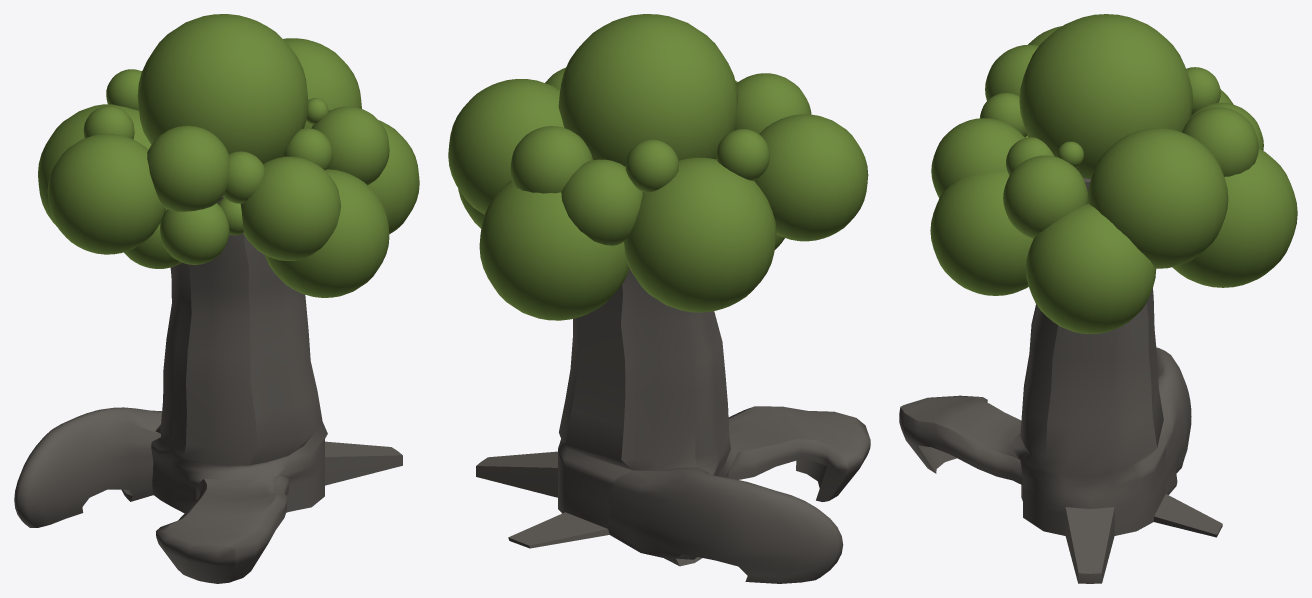
Rendered from Background_Tree.fbx.
3 renders of one model, left to right at view 1: azimuth 30°, elevation 25°; view 2: azimuth 150°, elevation 25°; view 3: azimuth 270°, elevation 25°, orthographic. The views are drawn at different scales.
Visible parts, largest first — view 1: Tree_2_Main, pSphere8, pSphere1, pSphere7, pSphere17, pSphere9, pSphere5, pSphere3, pSphere4, pSphere18, pSphere2, pSphere10 (+5 smaller); view 2: Tree_2_Main, pSphere8, pSphere2, pSphere16, pSphere1, pSphere4, pSphere6, pSphere13, pSphere9, pSphere15, pSphere14; view 3: Tree_2_Main, pSphere8, pSphere4, pSphere18, pSphere17, pSphere16, pSphere5, pSphere7, pSphere13, pSphere9, pSphere10, pSphere15 (+2 smaller).
Part boxes in pixels (x1,y1,x2,y2): Tree_2_Main: (14, 196, 402, 583); pSphere8: (137, 14, 308, 163); pSphere1: (47, 134, 166, 254); pSphere7: (240, 156, 341, 260); pSphere17: (265, 169, 389, 297); pSphere9: (147, 125, 229, 211); pSphere5: (311, 106, 389, 185); pSphere3: (160, 203, 229, 264); pSphere4: (283, 38, 361, 128); pSphere18: (368, 120, 419, 234); pSphere2: (38, 104, 151, 226); pSphere10: (222, 151, 264, 203); Tree_2_Main: (476, 268, 870, 583); pSphere8: (558, 14, 737, 166); pSphere2: (624, 157, 776, 312); pSphere16: (479, 180, 629, 320); pSphere1: (754, 114, 868, 241); pSphere4: (448, 79, 563, 214); pSphere6: (561, 159, 642, 245); pSphere13: (510, 126, 592, 193); pSphere9: (734, 73, 811, 133); pSphere15: (625, 139, 678, 192); pSphere14: (716, 129, 769, 180); Tree_2_Main: (899, 178, 1222, 583); pSphere8: (1019, 14, 1193, 182); pSphere4: (1088, 128, 1228, 268); pSphere18: (1025, 204, 1156, 334); pSphere17: (930, 170, 1033, 295); pSphere16: (1172, 148, 1297, 287); pSphere5: (1003, 155, 1087, 238); pSphere7: (931, 118, 1024, 198); pSphere13: (1182, 107, 1258, 176); pSphere9: (985, 44, 1038, 100); pSphere10: (980, 93, 1027, 137); pSphere15: (1186, 67, 1220, 114).
Size of the model in its own units: 145 by 176 by 132.
